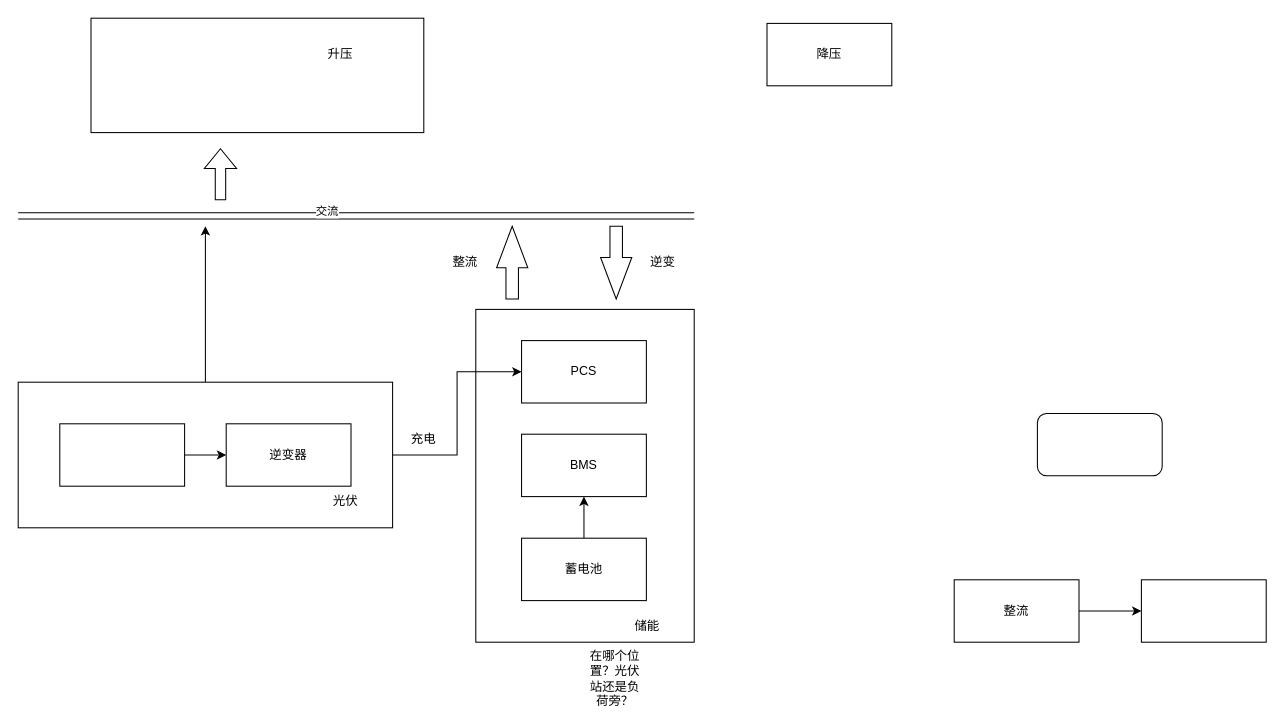
This 1284x727 diagram has some shape labels left out. Here are the shapes that lost their labels. From the top down, the box of each, then its label:
(59, 423, 185, 486): 光伏阵列
(1036, 412, 1162, 476): EMS
(1140, 579, 1266, 642): 电解槽
